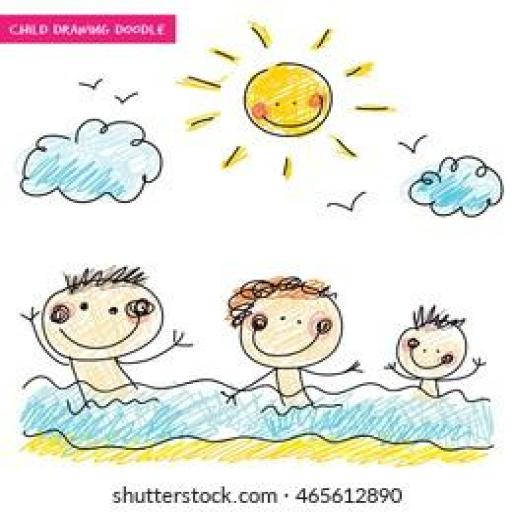person: (16, 264, 198, 429), (215, 272, 369, 422), (378, 300, 490, 407)
